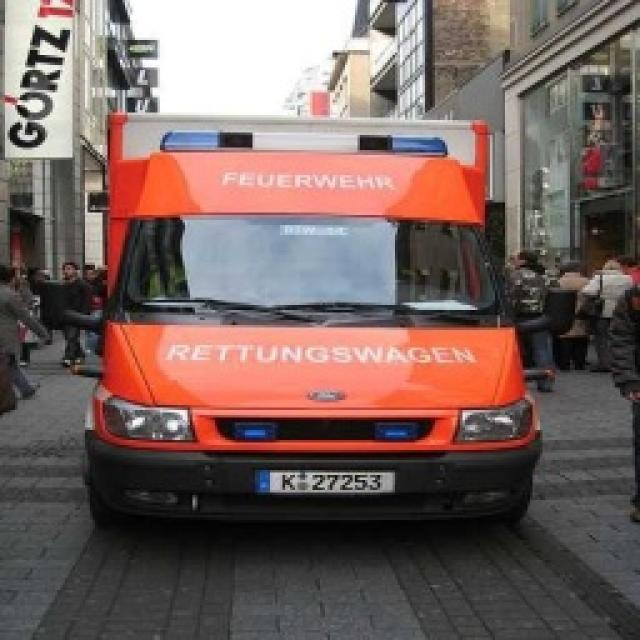emergency-vehicle: (84, 117, 549, 544)
